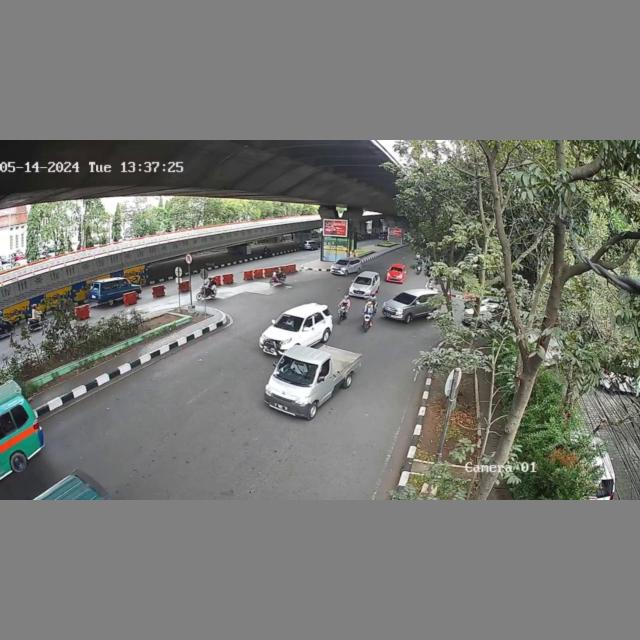windshield: (276, 356, 318, 386), (275, 314, 304, 336), (394, 292, 418, 305), (354, 277, 371, 286)
